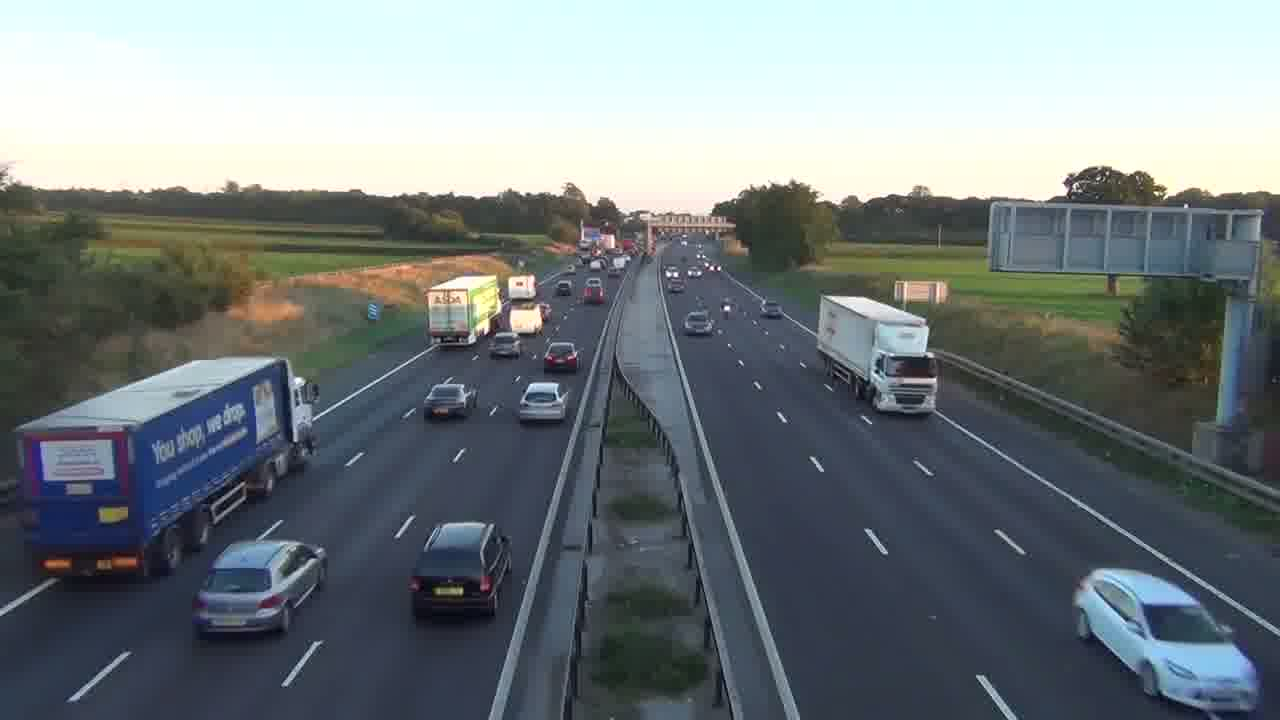car: (1072, 566, 1262, 713), (191, 538, 327, 640), (408, 520, 513, 618), (422, 381, 477, 421), (516, 381, 568, 422), (543, 340, 579, 372), (682, 310, 715, 337)
truck: (13, 354, 318, 581), (815, 293, 940, 415), (426, 273, 502, 346), (509, 303, 545, 336), (507, 274, 537, 300)
